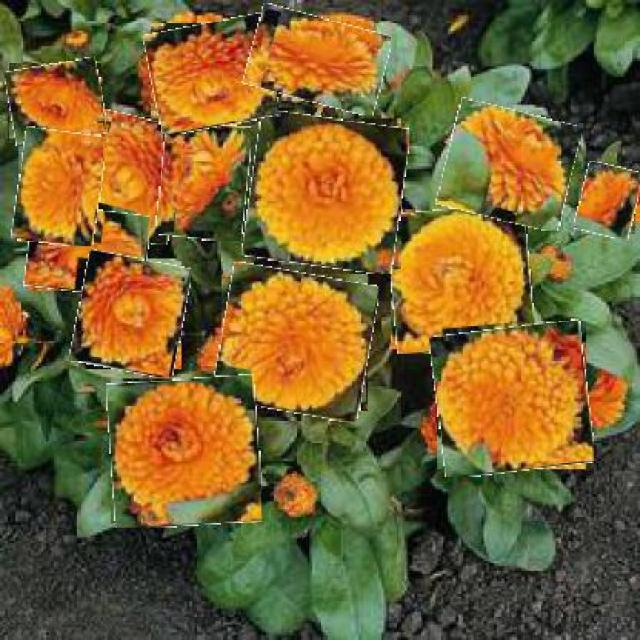Flower: (246, 114, 406, 271), (434, 323, 592, 475), (216, 268, 375, 419), (108, 376, 261, 527), (389, 207, 533, 353), (441, 104, 576, 227), (74, 113, 188, 242), (147, 18, 276, 131), (247, 10, 388, 110), (75, 254, 189, 375), (158, 121, 251, 241), (26, 207, 149, 296), (15, 129, 104, 246), (7, 60, 105, 145), (577, 163, 638, 239)
